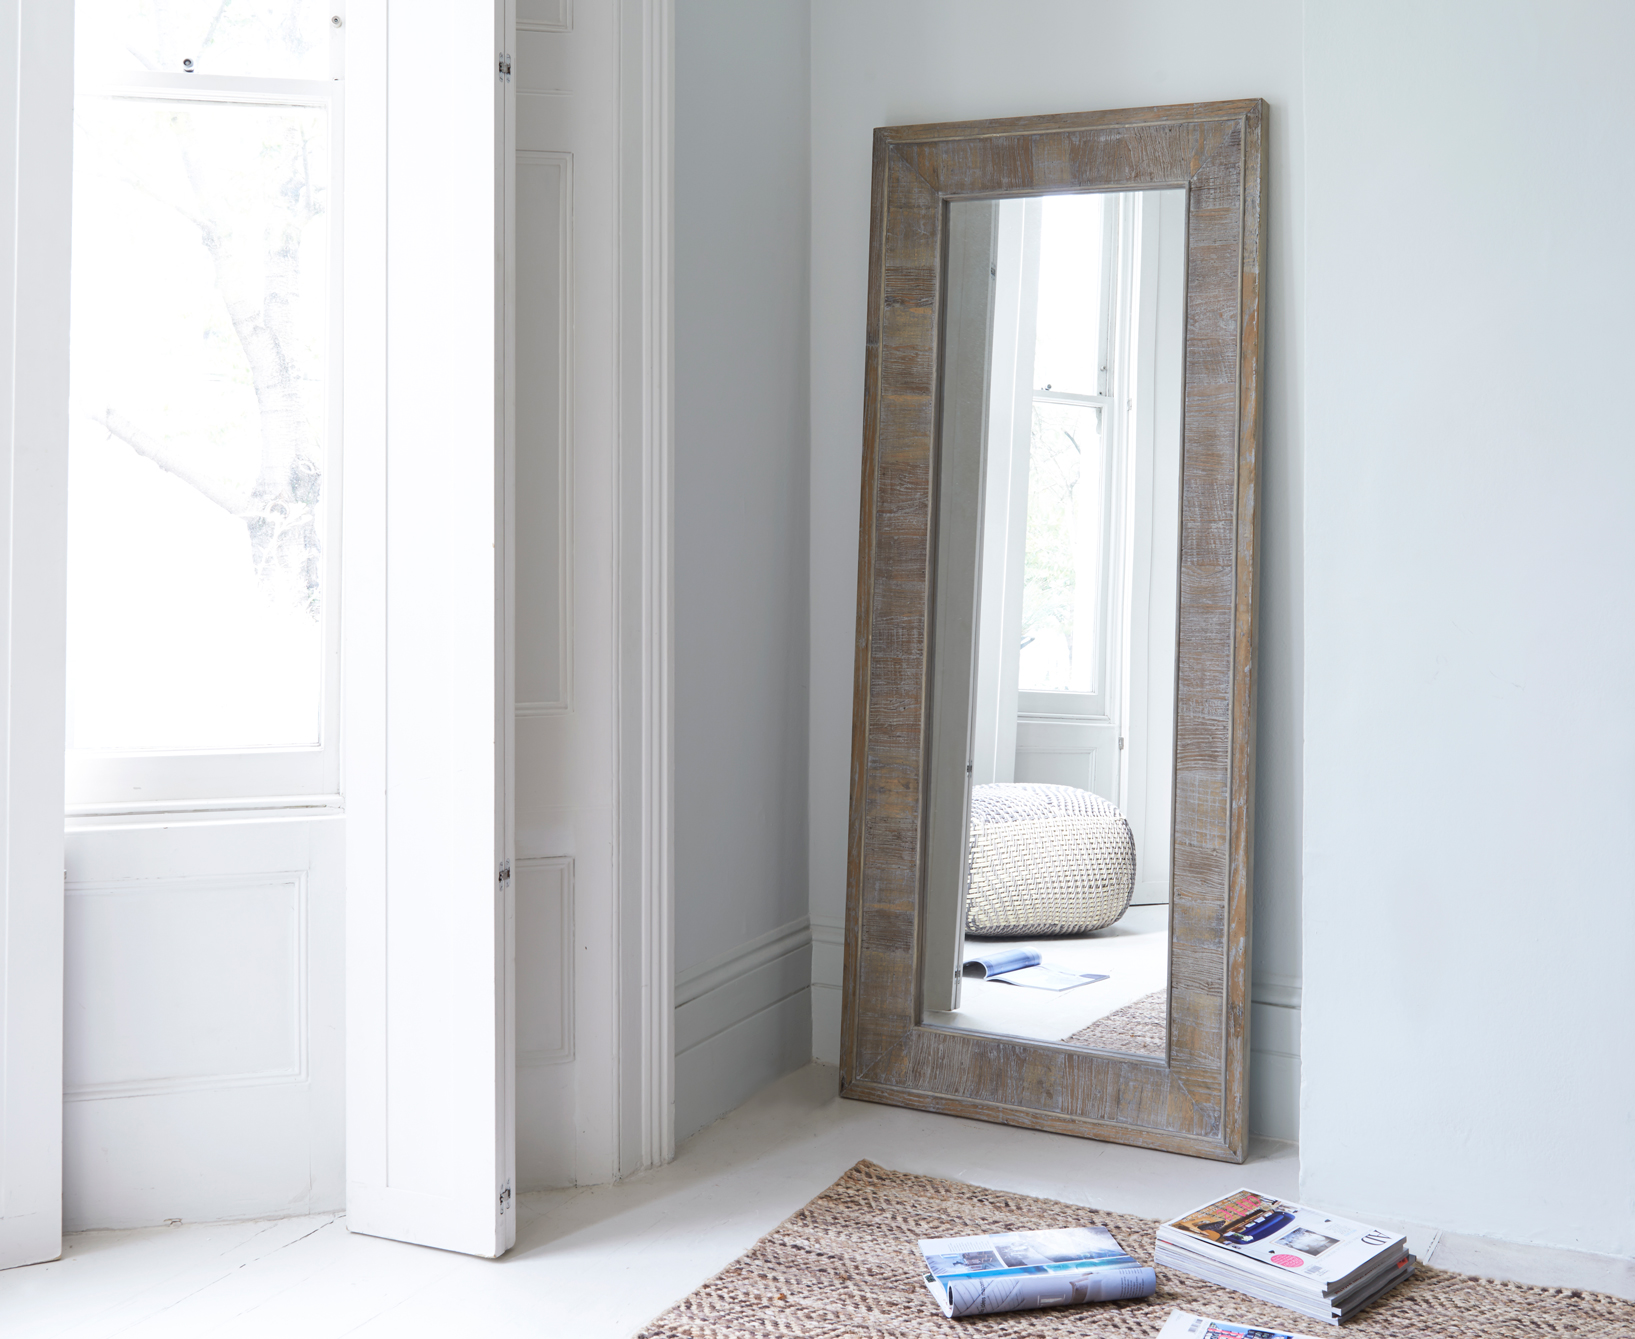Nonrec_Glass: (832, 77, 1259, 1181)
Rec_Paper: (1141, 1165, 1414, 1329), (879, 1205, 1168, 1321)
